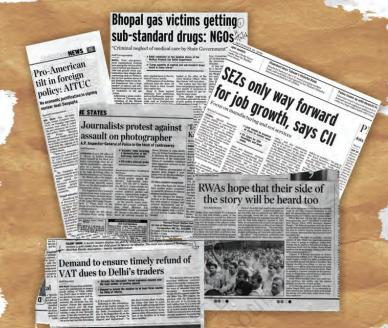paper: (28, 13, 382, 326)
